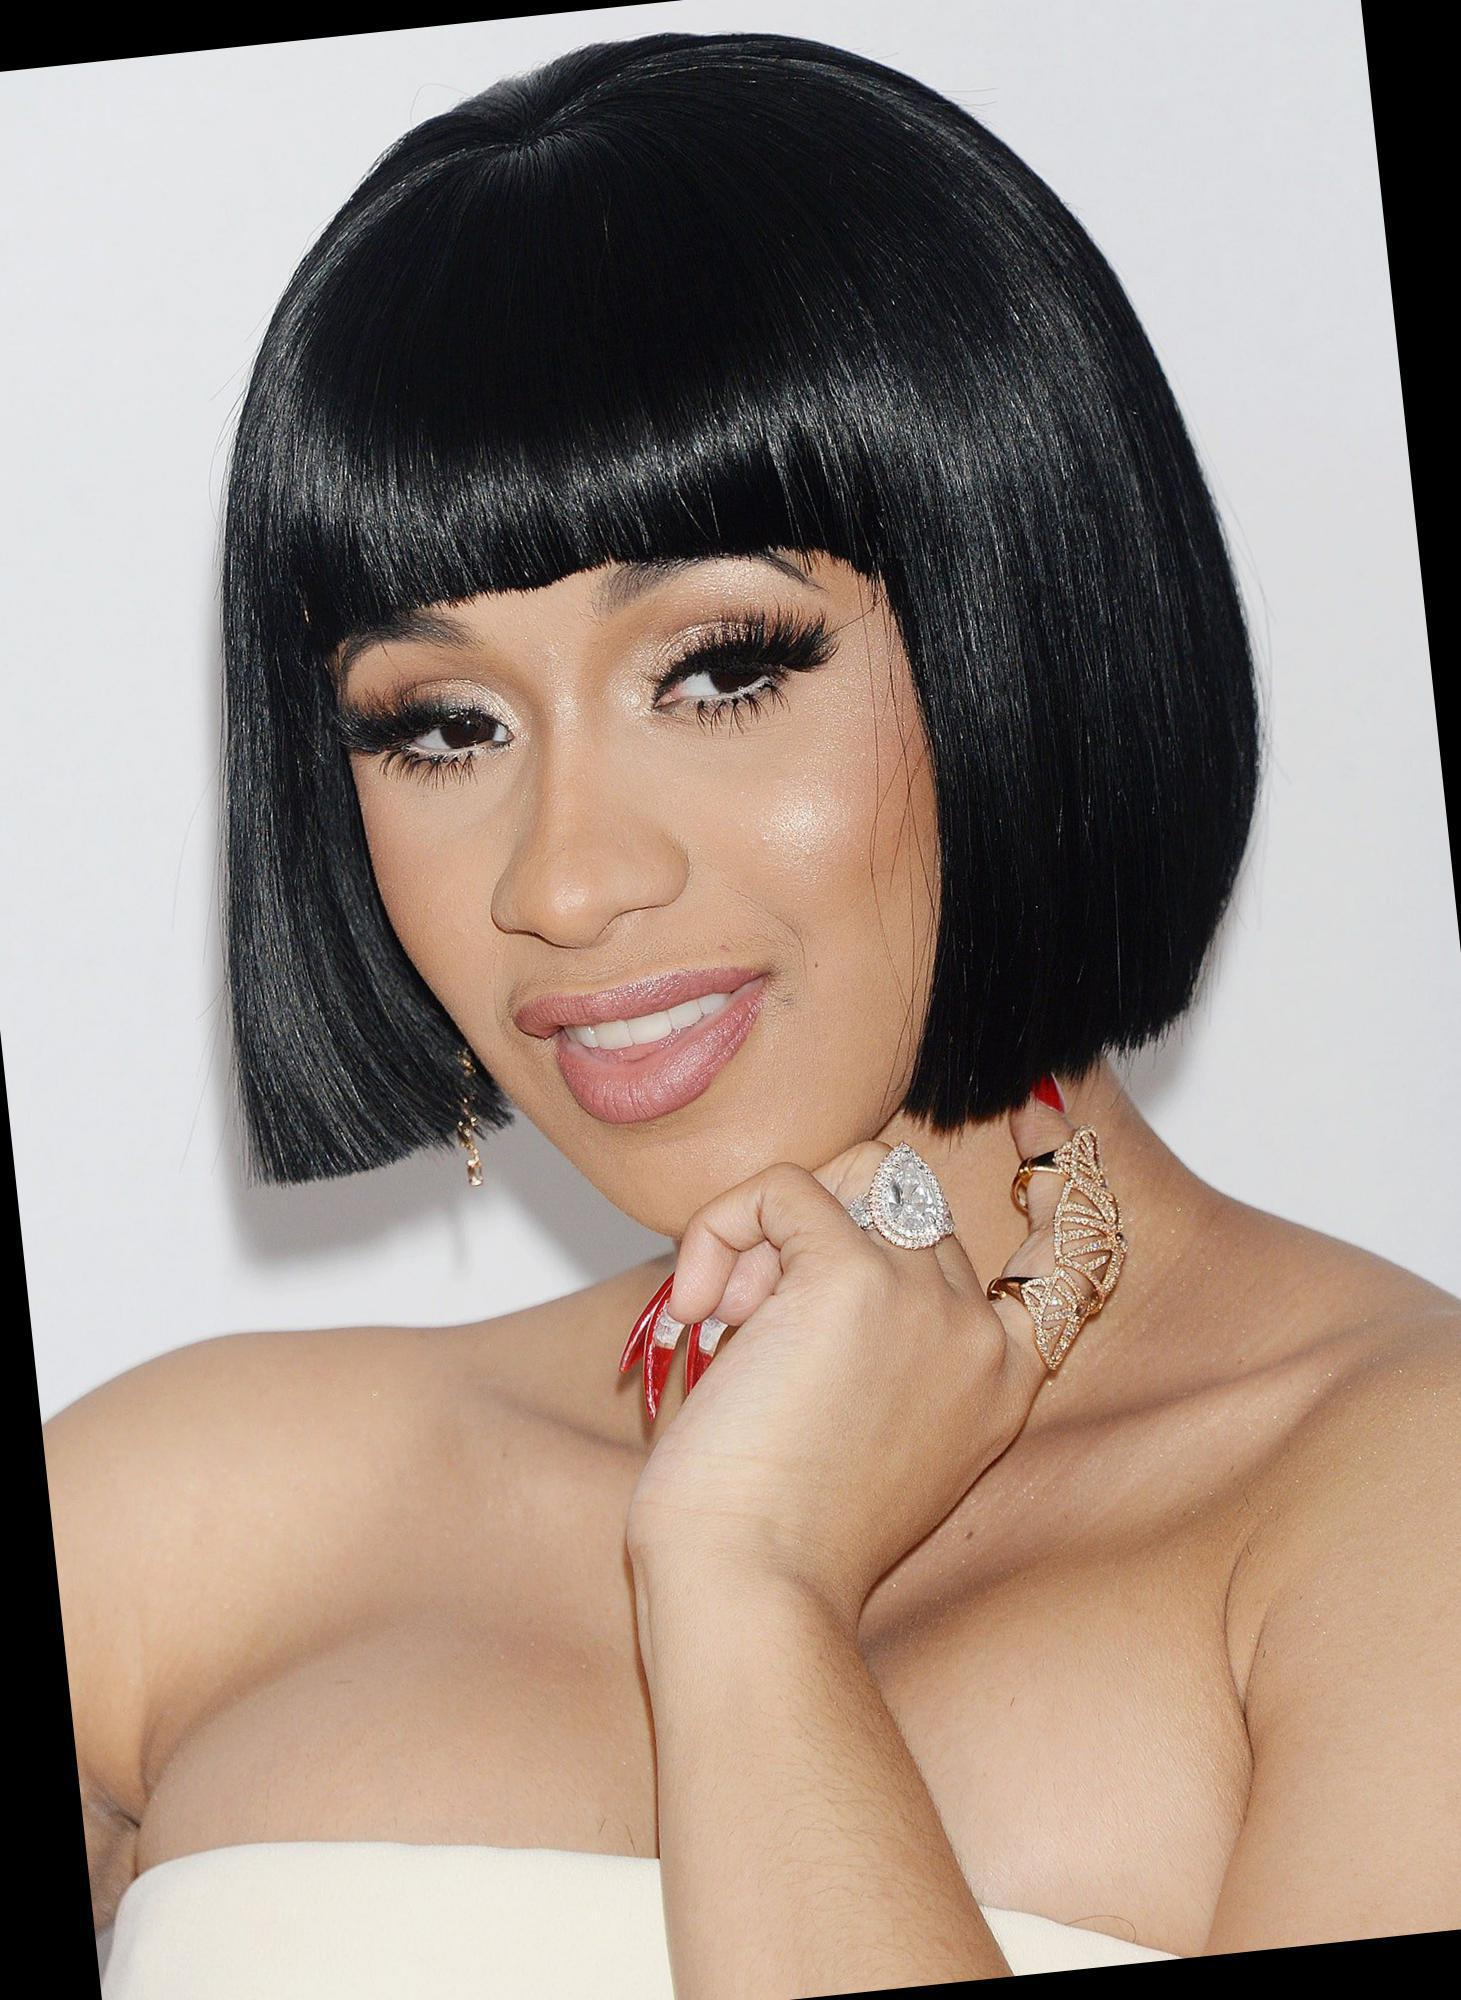Sober: (342, 540, 946, 1210)
